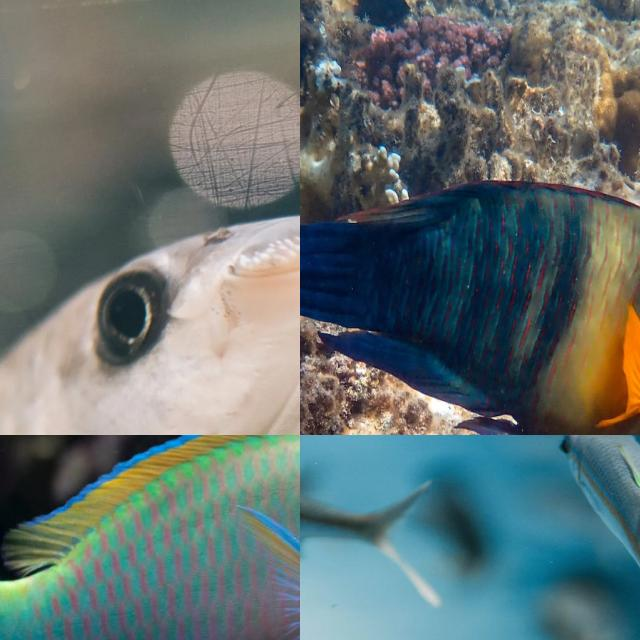fish: (0, 0, 300, 435), (300, 135, 640, 435), (300, 435, 593, 640), (54, 435, 300, 640)
